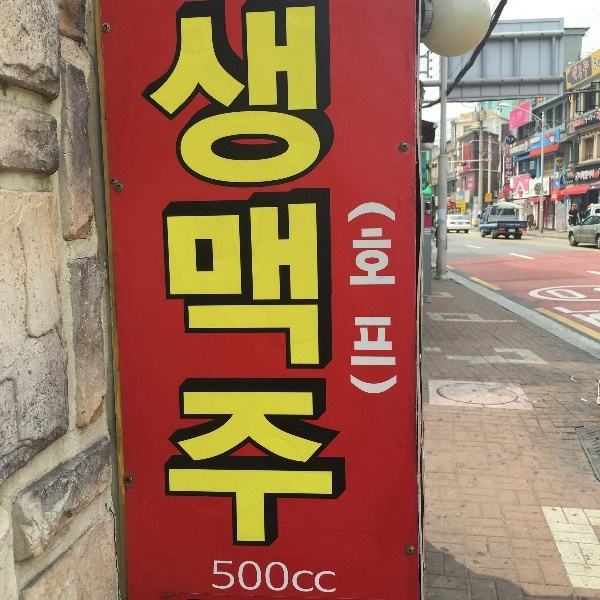text: (145, 1, 160, 550), (161, 1, 176, 550), (177, 1, 192, 550), (193, 1, 208, 550), (209, 1, 224, 550), (225, 1, 240, 550), (241, 1, 256, 550), (257, 1, 272, 550), (273, 1, 288, 550), (289, 1, 304, 550), (305, 1, 320, 550), (321, 1, 336, 550), (337, 1, 349, 550), (136, 1, 144, 550), (353, 203, 368, 396), (369, 203, 384, 396), (385, 203, 397, 396), (349, 203, 352, 396), (225, 560, 240, 598), (241, 560, 256, 598), (257, 560, 272, 598), (273, 560, 288, 598), (289, 560, 304, 598), (305, 560, 320, 598), (321, 560, 336, 598), (212, 560, 224, 598), (561, 307, 576, 331), (577, 307, 592, 331), (577, 60, 589, 82), (433, 347, 448, 364), (449, 347, 464, 364), (465, 347, 480, 364), (481, 347, 496, 364), (497, 347, 512, 364), (513, 347, 528, 364), (529, 347, 544, 364), (513, 141, 528, 155), (552, 307, 560, 331), (505, 157, 512, 184), (422, 347, 432, 364), (593, 307, 600, 331), (545, 289, 560, 300), (561, 289, 576, 300), (433, 312, 448, 323), (449, 312, 464, 323), (465, 312, 480, 323), (481, 312, 496, 323), (497, 312, 512, 323), (579, 169, 592, 180), (466, 147, 480, 157), (577, 289, 588, 300), (433, 291, 448, 299), (531, 98, 544, 107), (571, 60, 576, 82), (593, 57, 600, 72), (517, 111, 528, 120), (566, 171, 576, 180), (584, 113, 592, 124), (545, 347, 550, 364), (337, 560, 339, 598), (426, 312, 432, 323), (513, 312, 519, 323), (449, 291, 457, 299), (468, 178, 480, 183), (530, 139, 544, 143), (565, 168, 576, 173), (509, 141, 512, 155), (536, 98, 544, 103), (518, 189, 528, 192), (572, 121, 576, 127), (577, 121, 581, 127), (593, 113, 595, 124), (518, 194, 528, 196), (507, 137, 512, 141), (430, 291, 432, 299), (593, 169, 594, 180), (557, 160, 560, 163), (513, 137, 515, 141), (561, 160, 563, 163)
